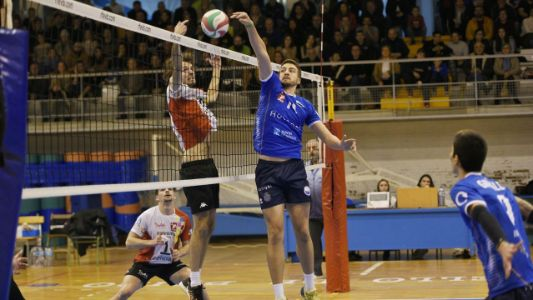voleibol: (201, 9, 229, 39)
